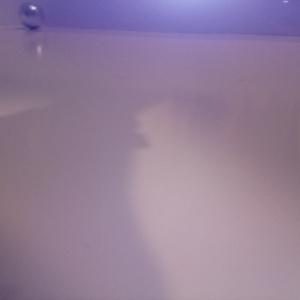alive_ball: (17, 2, 44, 29)
